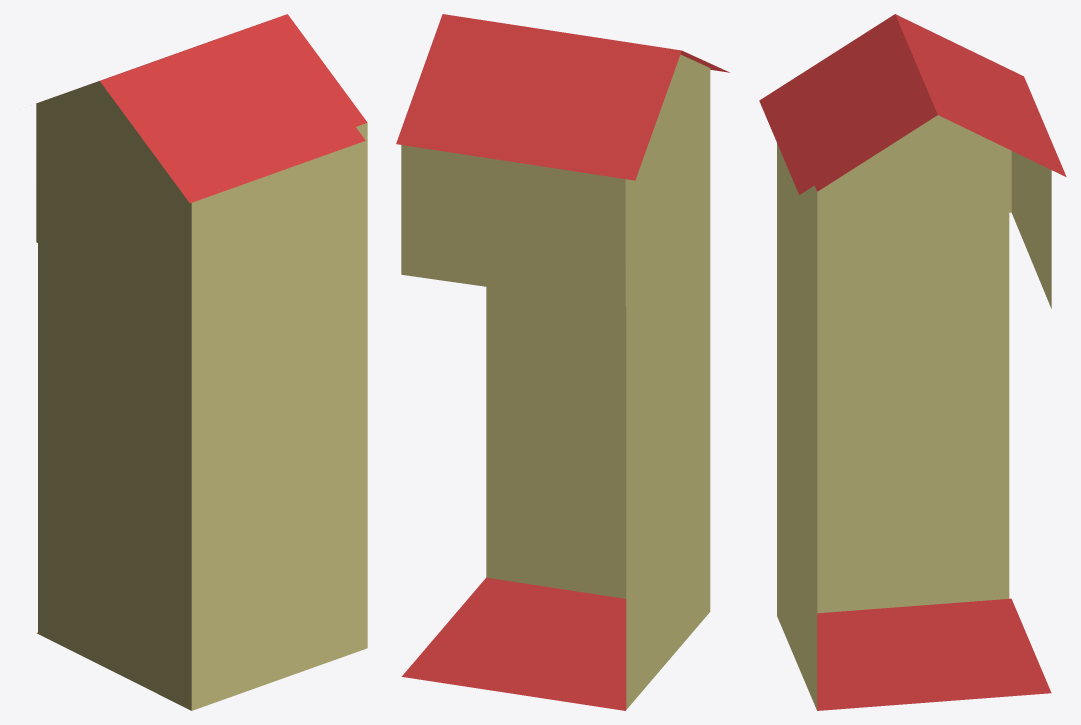
The picture shows the model from 3 angles, left to right: view 1: azimuth 30°, elevation 25°; view 2: azimuth 150°, elevation 25°; view 3: azimuth 270°, elevation 25°; orthographic projection. The views are drawn at different scales.
Bounding box in the file's own units: 4.59 × 4.98 × 10.48.
